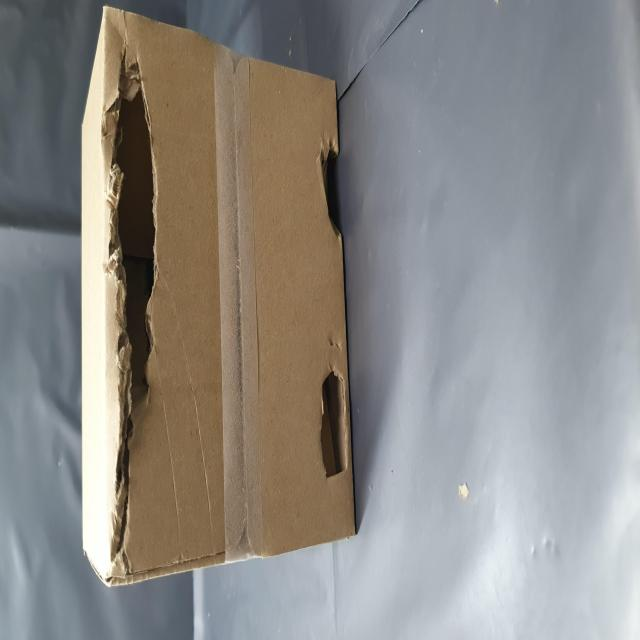damaged: (41, 179, 344, 274), (88, 556, 159, 622), (223, 553, 289, 611)
